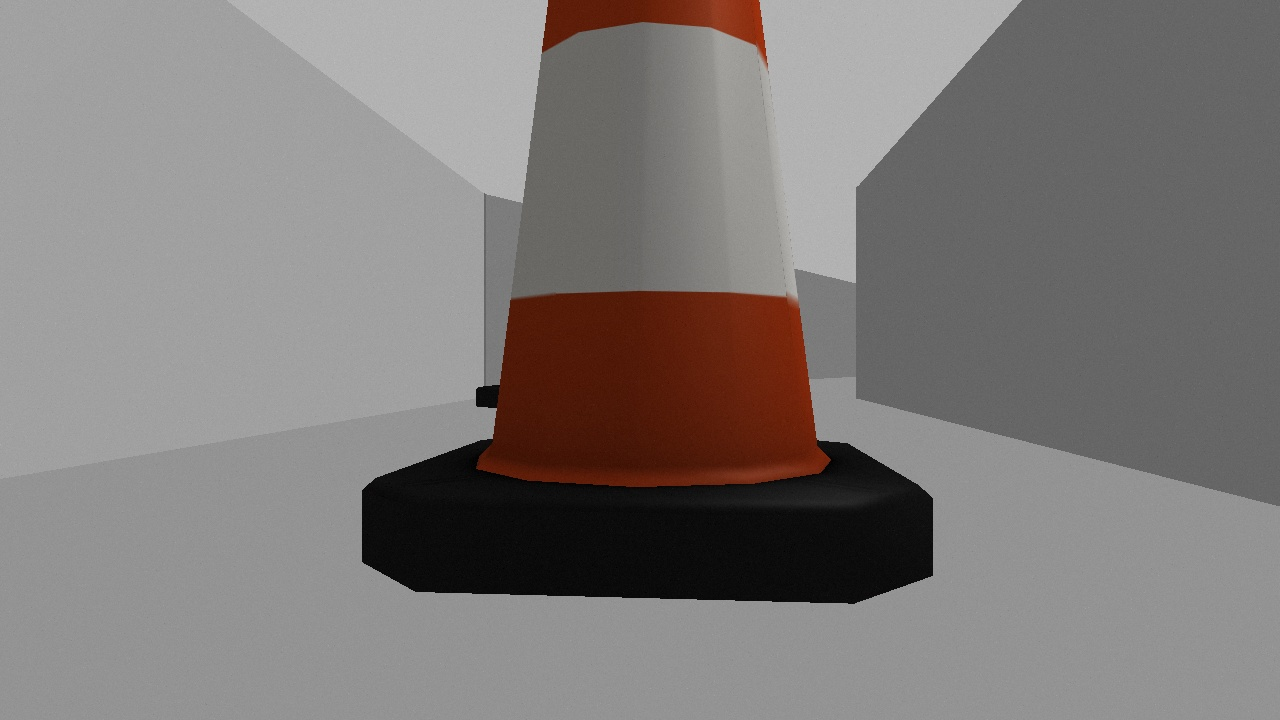barricade: (327, 1, 957, 617)
